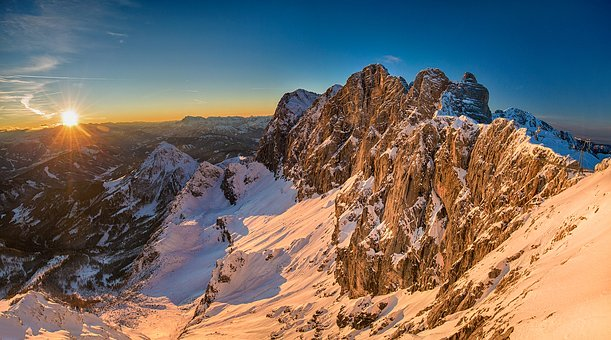mountain: (5, 89, 611, 336)
sky: (4, 3, 594, 120)
